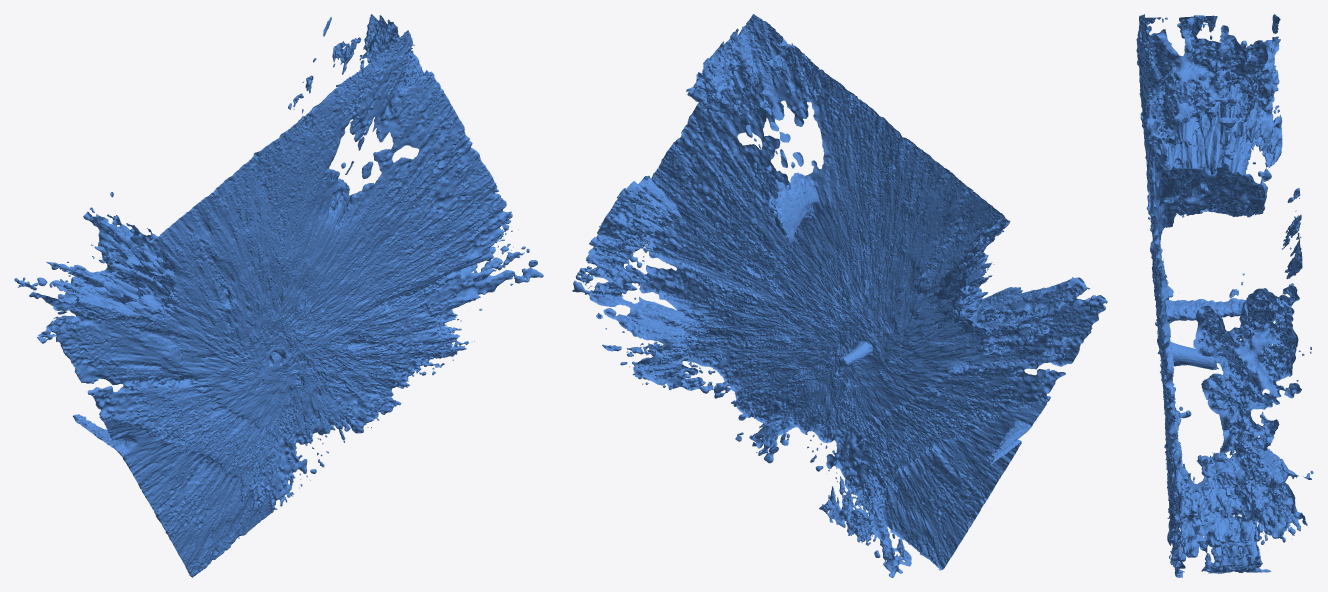
The model's file is park 1.fbx.
3 renders of one model, left to right at view 1: azimuth 30°, elevation 25°; view 2: azimuth 150°, elevation 25°; view 3: azimuth 270°, elevation 25°, orthographic. The views are drawn at different scales.
Parts seen in each view (by area): view 1: Model; view 2: Model; view 3: Model.
Part boxes in pixels (<box>): Model: <box>14,14,543,577</box>; Model: <box>572,14,1107,577</box>; Model: <box>1136,14,1313,577</box>.
Bounding box in the file's own units: 272 × 59.58 × 260.
